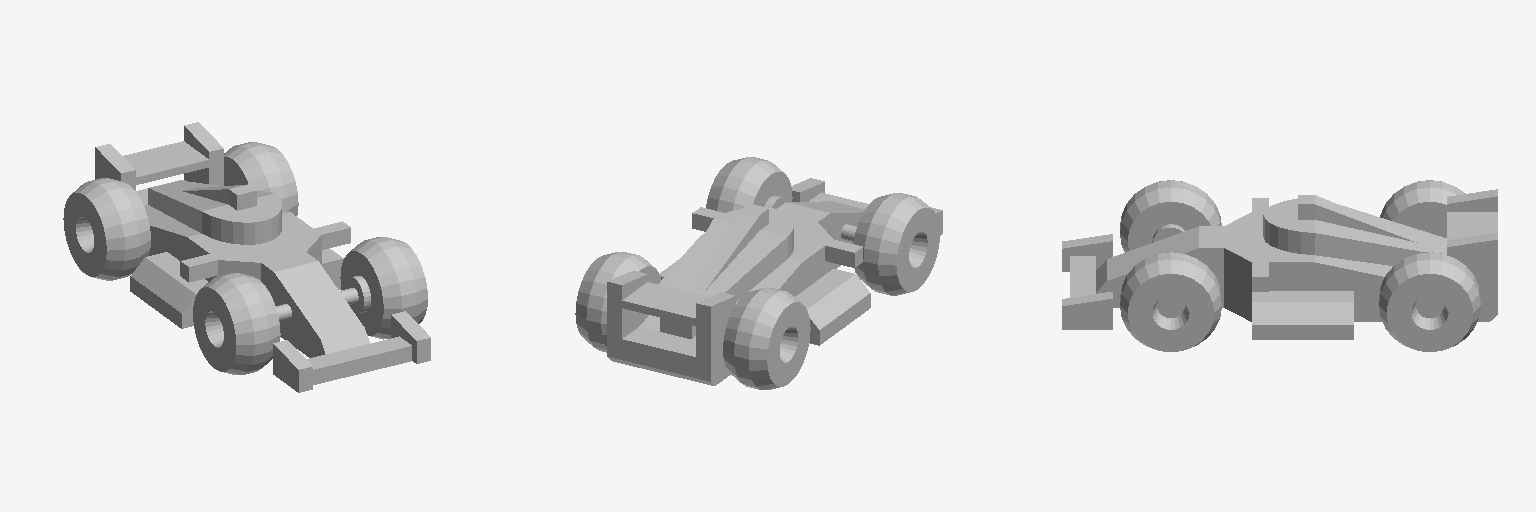
File: race.obj
3 renders of one model, left to right at view 1: azimuth 30°, elevation 25°; view 2: azimuth 150°, elevation 25°; view 3: azimuth 270°, elevation 25°, orthographic.
Visible parts, largest first — view 1: body, wheel-back-right, wheel-front-right, wheel-front-left, wheel-back-left; view 2: body, wheel-back-right, wheel-front-right, wheel-back-left, wheel-front-left; view 3: body, wheel-front-left, wheel-back-left, wheel-front-right, wheel-back-right.
Part boxes in pixels (x1,y1,x2,y2): body: (95, 122, 430, 392); wheel-back-right: (63, 178, 150, 280); wheel-front-right: (193, 273, 280, 374); wheel-front-left: (340, 237, 427, 339); wheel-back-left: (224, 142, 298, 215); body: (607, 178, 942, 385); wheel-back-right: (723, 288, 810, 389); wheel-front-right: (853, 193, 939, 295); wheel-back-left: (575, 252, 660, 352); wheel-front-left: (706, 157, 792, 212); body: (1062, 189, 1497, 339); wheel-front-left: (1120, 252, 1221, 351); wheel-back-left: (1379, 252, 1480, 351); wheel-front-right: (1120, 180, 1221, 252); wheel-back-right: (1380, 180, 1465, 237).
Size of the model in its own units: 1.3 by 0.7325 by 2.56.